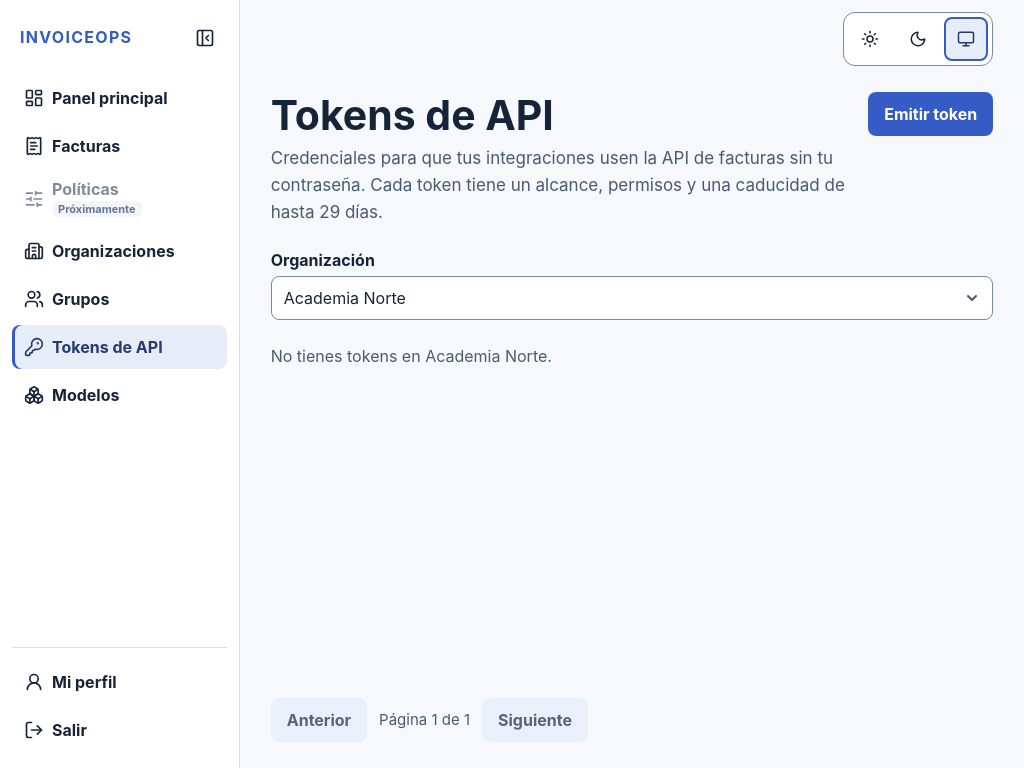
Test: emission form (AC-12) › validates name and permissions accessibly before sending
Check: the heading "Tokens de API" is shown, box [271,90,554,140]
Click the button "Emitir token".
click(931, 114)  # box [868,92,993,136]
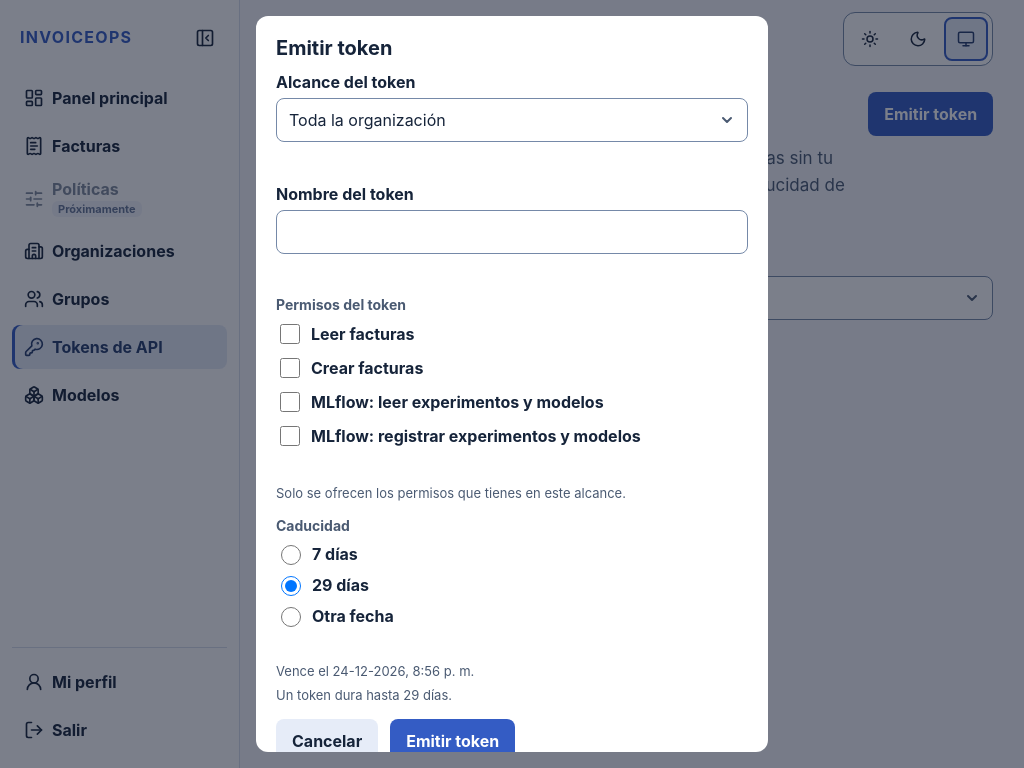
Click the button "Emitir token".
click(453, 741)  # box [390,719,515,763]
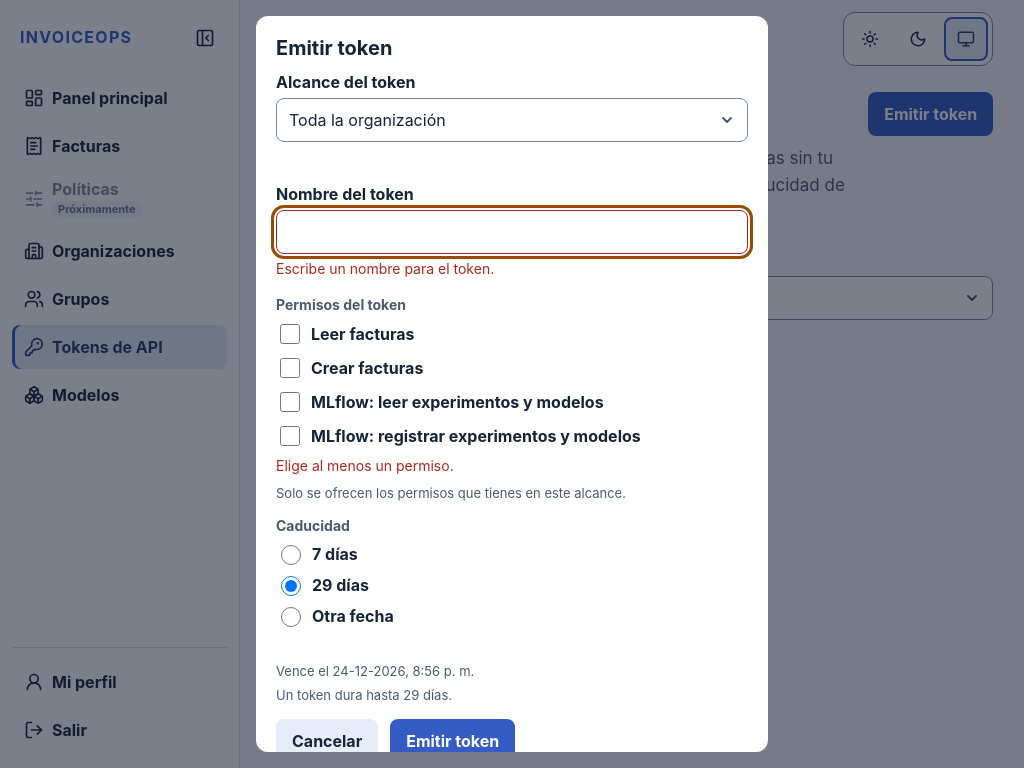
Check: the text "Escribe un nombre para el token." is shown, box [276,260,494,277]
Check: the text "Elige al menos un permiso." is shown, box [276,457,454,474]
